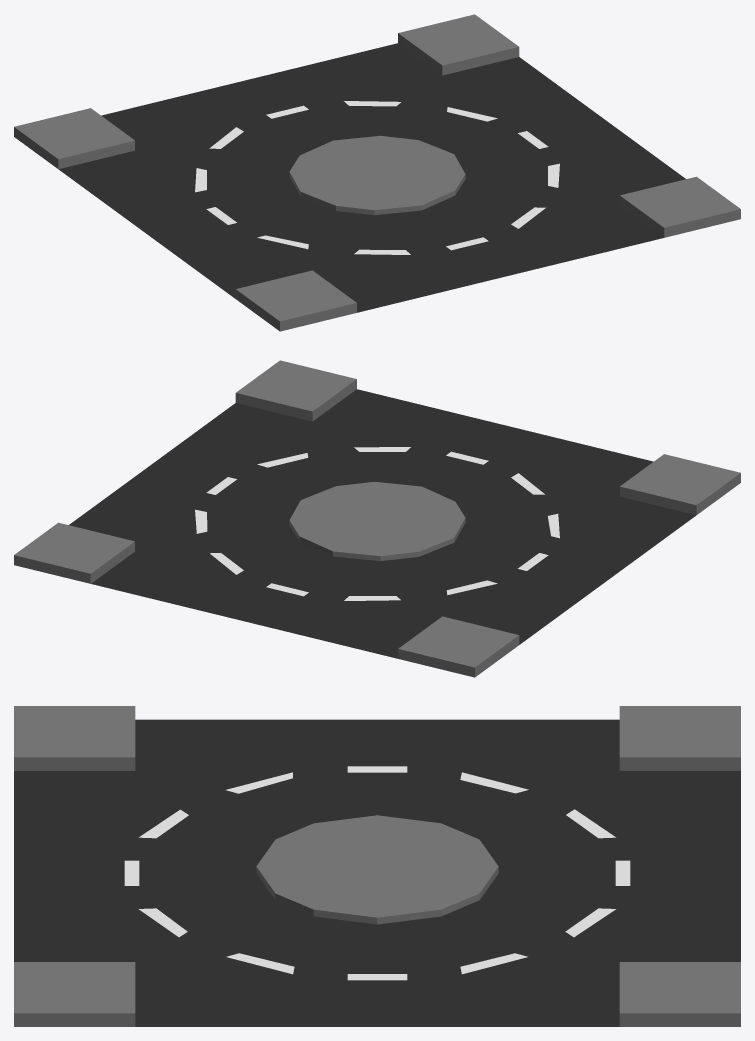
File: RoadRoundabout.fbx
3 views of the same model, one above another, from view 1: azimuth 30°, elevation 25°; view 2: azimuth 150°, elevation 25°; view 3: azimuth 270°, elevation 25° (orthographic). The views are drawn at different scales.
Parts seen in each view (by area): view 1: RoadRoundabout, Pavement; view 2: RoadRoundabout, Pavement; view 3: RoadRoundabout, Pavement.
Boxes of the visible parts, x1=… form: RoadRoundabout: x1=59, y1=43, x2=685, y2=312; Pavement: x1=14, y1=14, x2=740, y2=331; RoadRoundabout: x1=69, y1=389, x2=695, y2=658; Pavement: x1=14, y1=360, x2=740, y2=677; RoadRoundabout: x1=14, y1=719, x2=740, y2=1026; Pavement: x1=14, y1=706, x2=740, y2=1026.
Size of the model in its own units: 24 by 0.5 by 24.
1 material, 1 textured.
